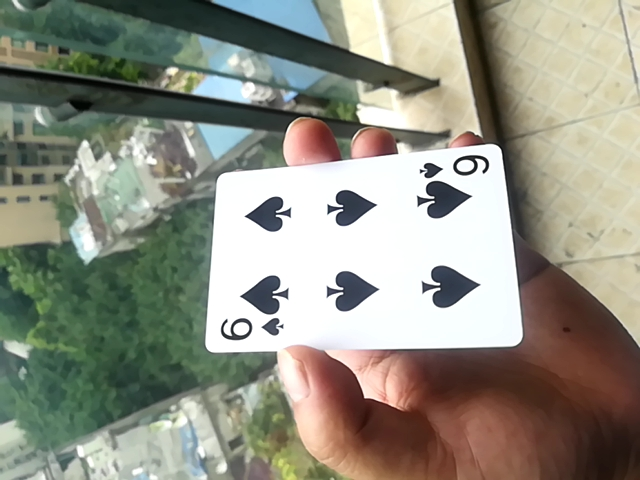ht 6: (195, 143, 529, 355)
